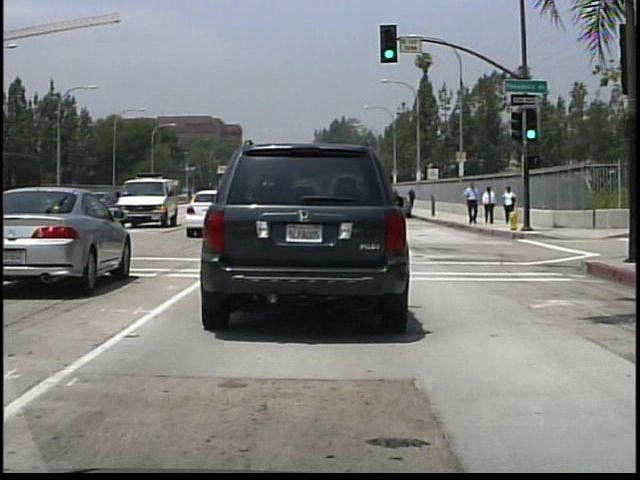person: (462, 180, 480, 226), (481, 185, 497, 225), (503, 184, 518, 213), (409, 188, 418, 205)
